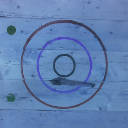Axe Tip: (49, 80, 61, 82)
